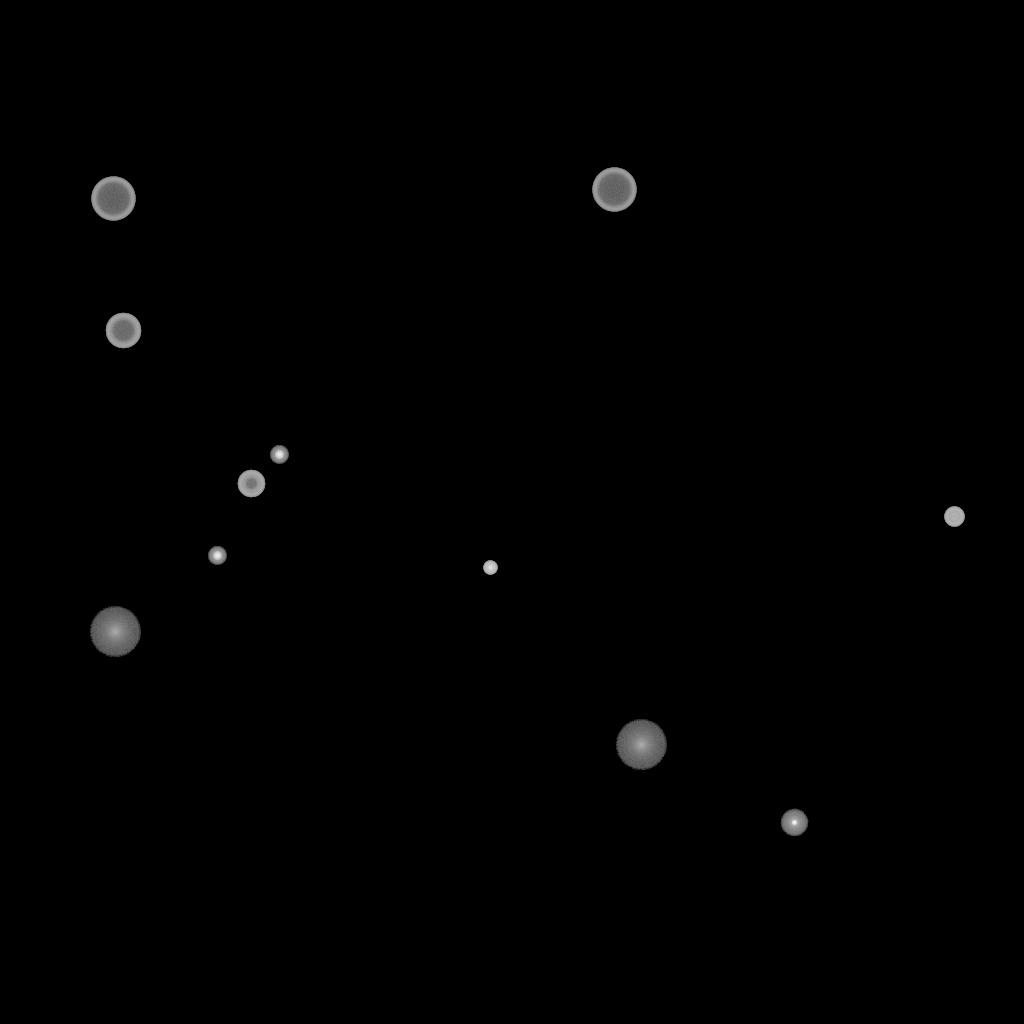depth:-10: (780, 809, 808, 837)
depth:-20: (208, 547, 226, 565), (270, 446, 288, 464)
depth:-30: (483, 561, 497, 575)
depth:-40: (944, 507, 964, 527)
depth:-50: (237, 470, 265, 498)
depth:-60: (105, 313, 141, 349)
depth:-70: (592, 168, 636, 212), (91, 177, 135, 221)
depth:20: (615, 720, 667, 770), (89, 607, 141, 657)
